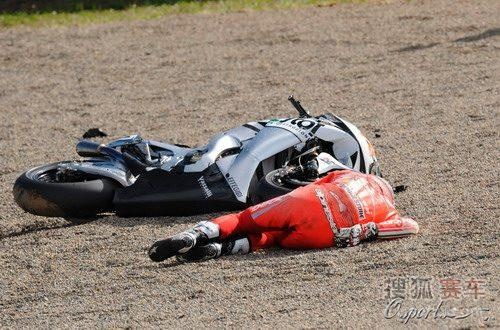falling: (146, 141, 413, 267)
